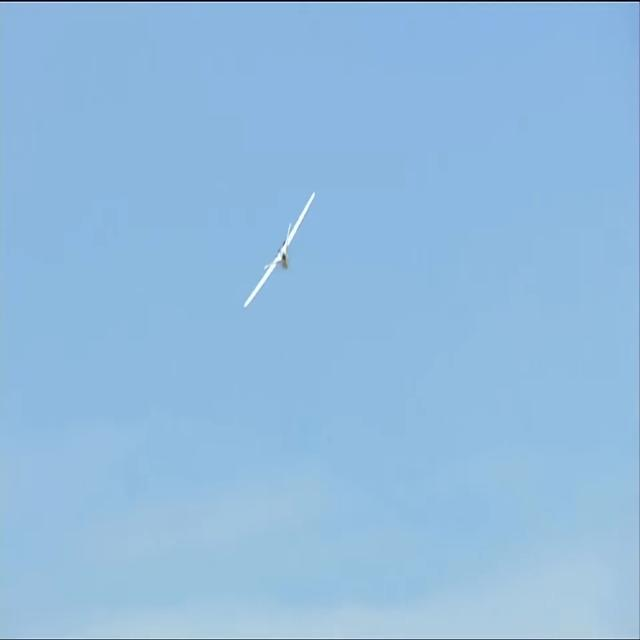iha: (276, 223, 280, 278)
